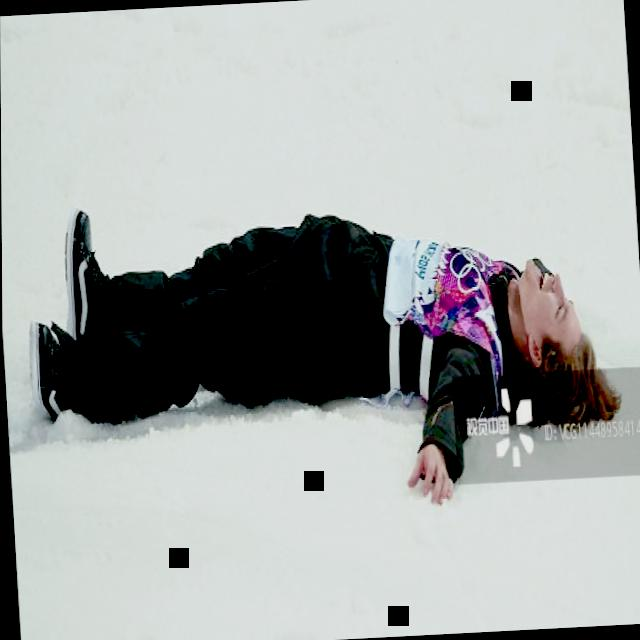Fall-Detected: (6, 157, 621, 529)
